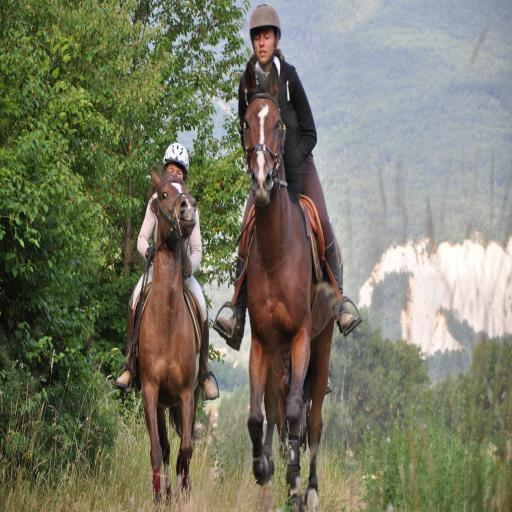horse: (240, 61, 342, 511), (131, 162, 202, 505)
